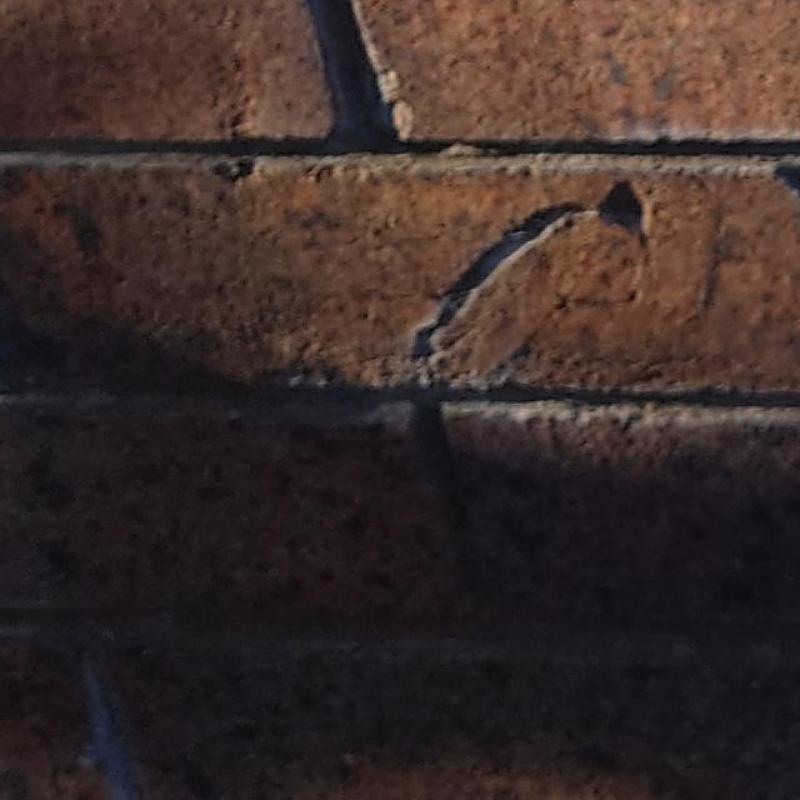pothole: (412, 181, 644, 357)
